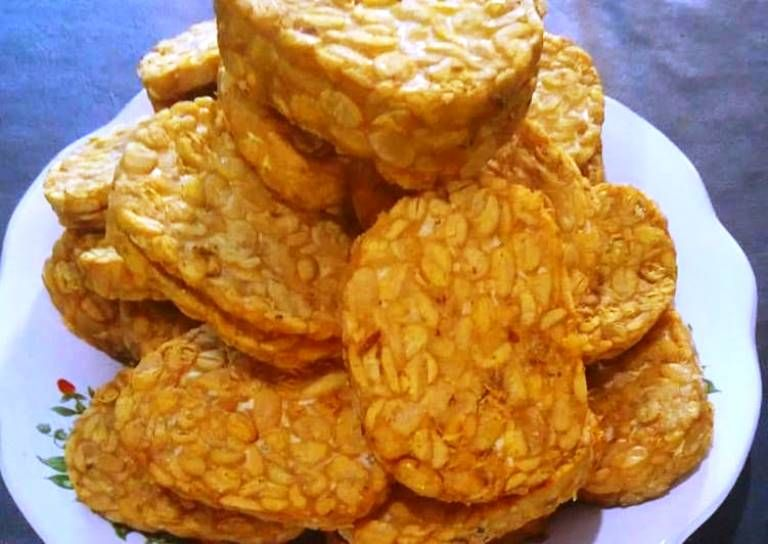Tempe: (344, 190, 575, 506), (113, 131, 362, 346), (110, 333, 371, 515)
